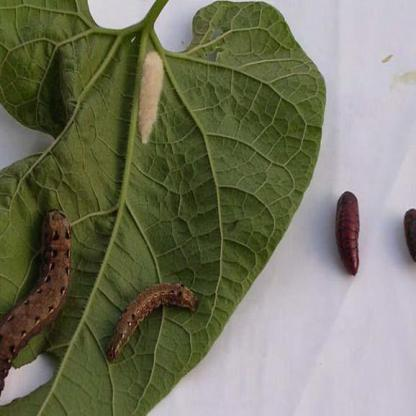armyworm: (2, 202, 74, 400), (108, 277, 201, 366), (336, 189, 364, 276), (401, 202, 416, 260)
